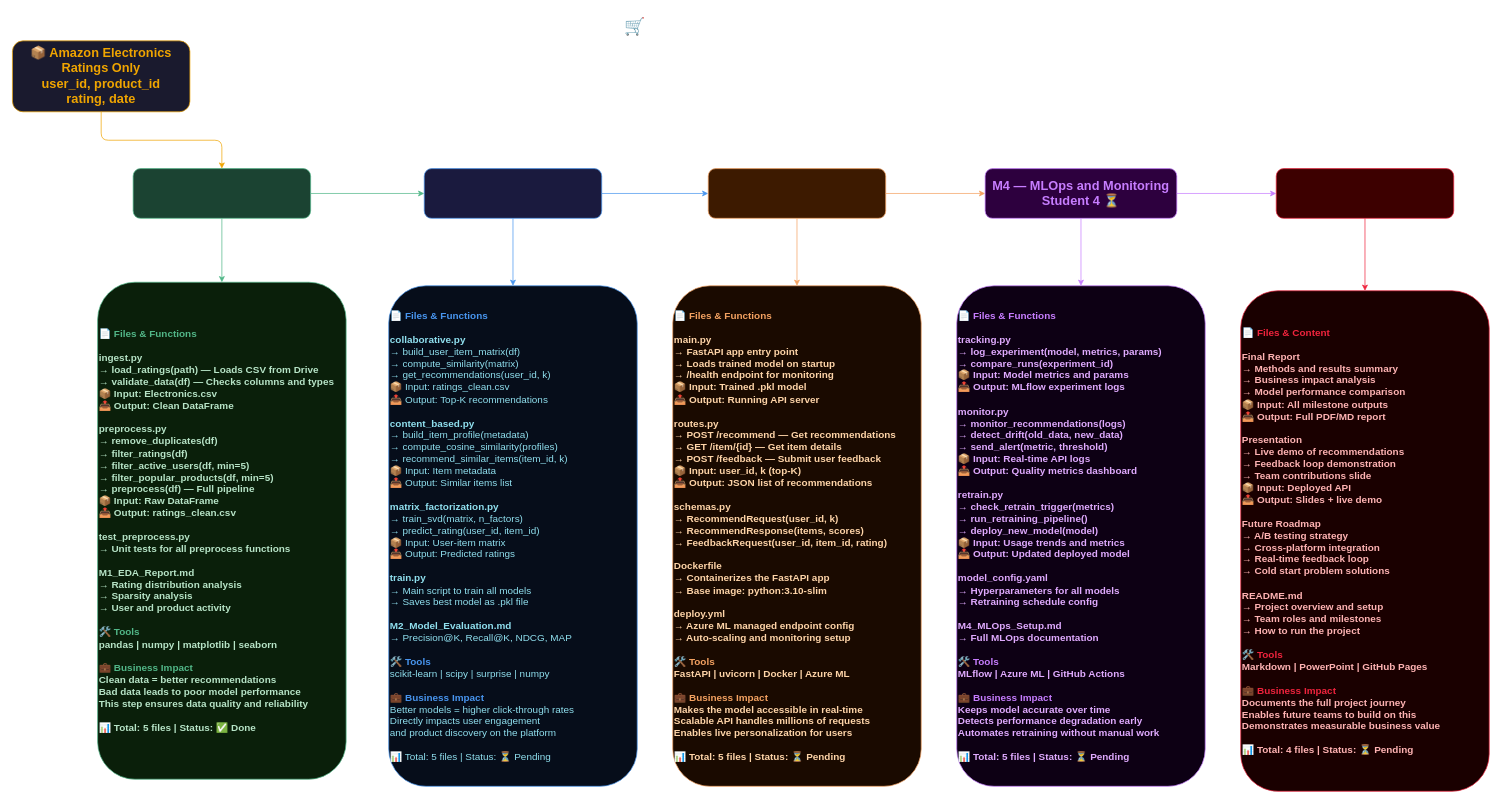
Some shapes in this 1502 by 804 pixel diagram are drawn without their labels. The shapes that lost their labels are listed below. From the top down, each one's box as (x1, y1, x2, y2) in pixels, then its label:
(132, 168, 311, 218): M1 — Data and EDA Student 1 ✅
(424, 168, 602, 218): M2 — Model Development Student 2 ⏳
(708, 168, 886, 218): M3 — API and Deployment Student 3 ⏳
(1276, 168, 1454, 218): M5 — Documentation Student 5 ⏳
